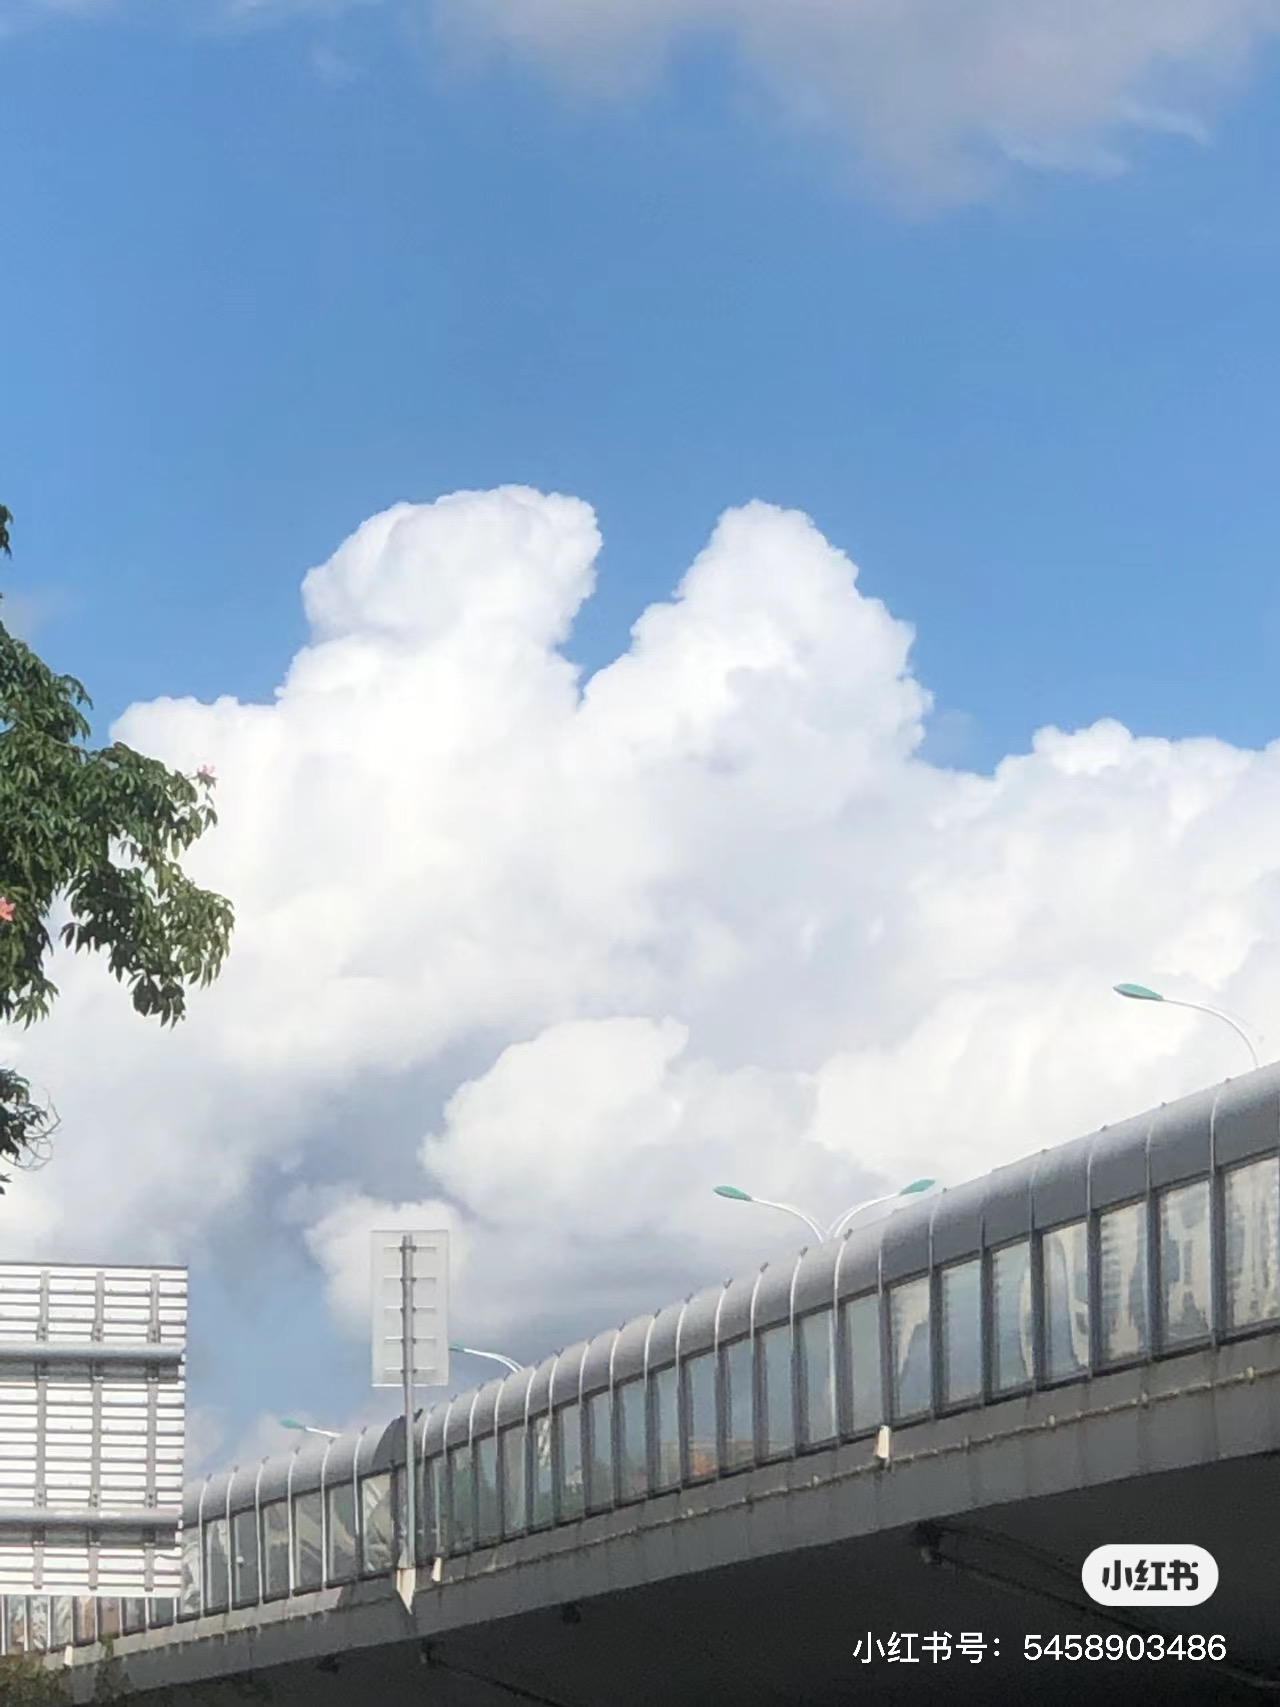Cumulus: (74, 397, 1265, 1280)
